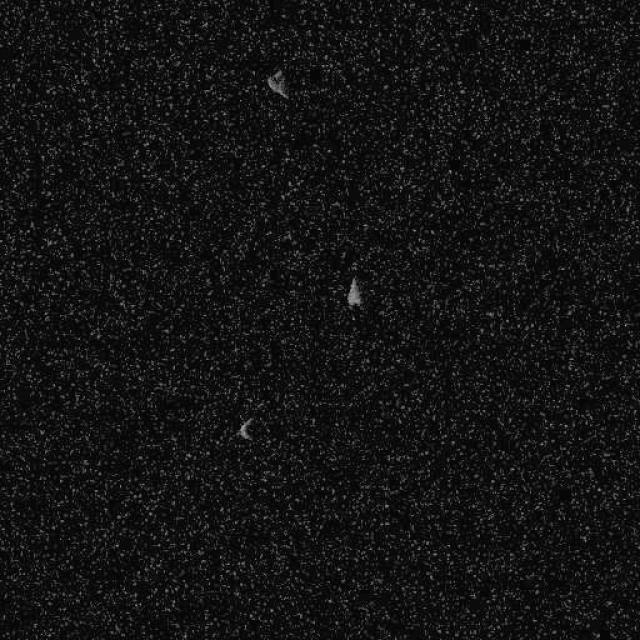D2: (265, 68, 290, 100), (345, 275, 363, 306), (236, 415, 255, 441)
